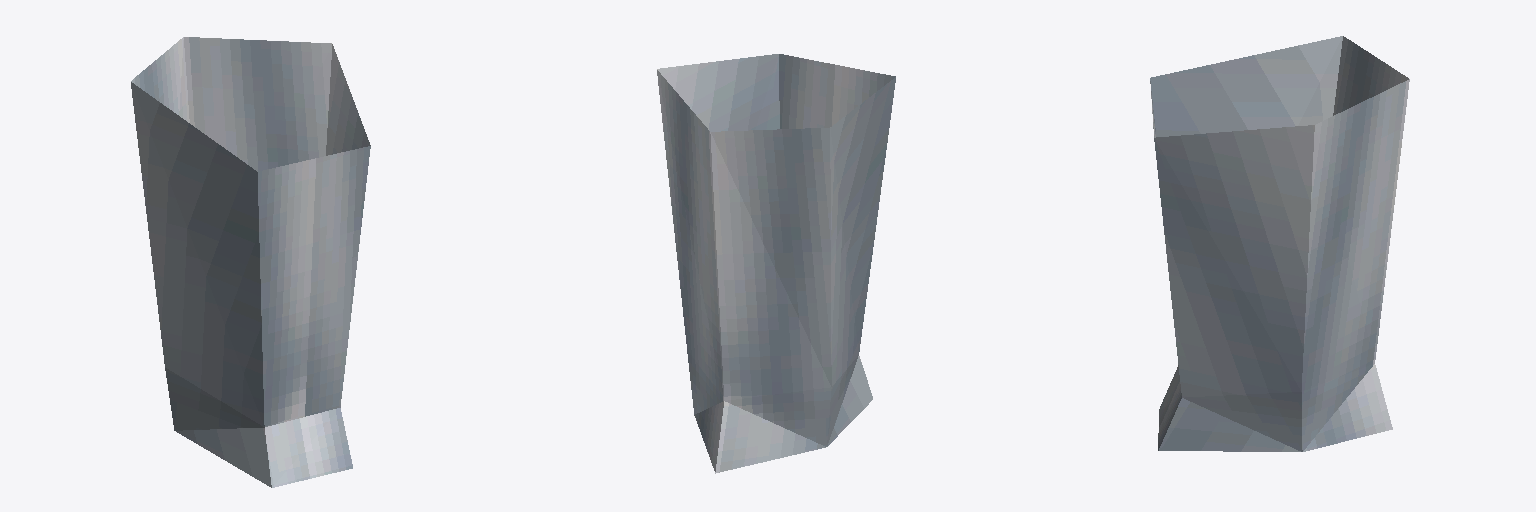
3 views of the same model, side by side, from view 1: azimuth 30°, elevation 25°; view 2: azimuth 150°, elevation 25°; view 3: azimuth 270°, elevation 25° (orthographic).
Visible parts, largest first — view 1: AdultLink; view 2: AdultLink; view 3: AdultLink.
Part boxes in pixels (left/top/right/bottom): AdultLink: left=131, top=37, right=370, bottom=487; AdultLink: left=657, top=54, right=895, bottom=473; AdultLink: left=1150, top=36, right=1409, bottom=451.
Bounding box in the file's own units: 0.9958 × 1.79 × 1.19.
Materials: 1 (1 with a texture image).